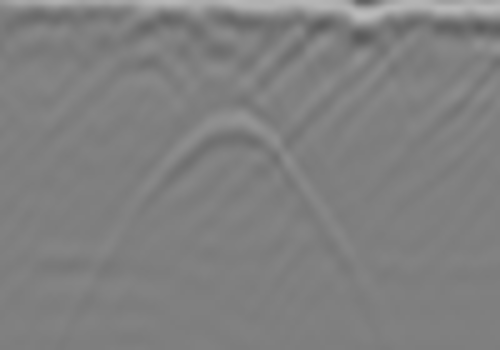hyperbola: (55, 96, 404, 350)
